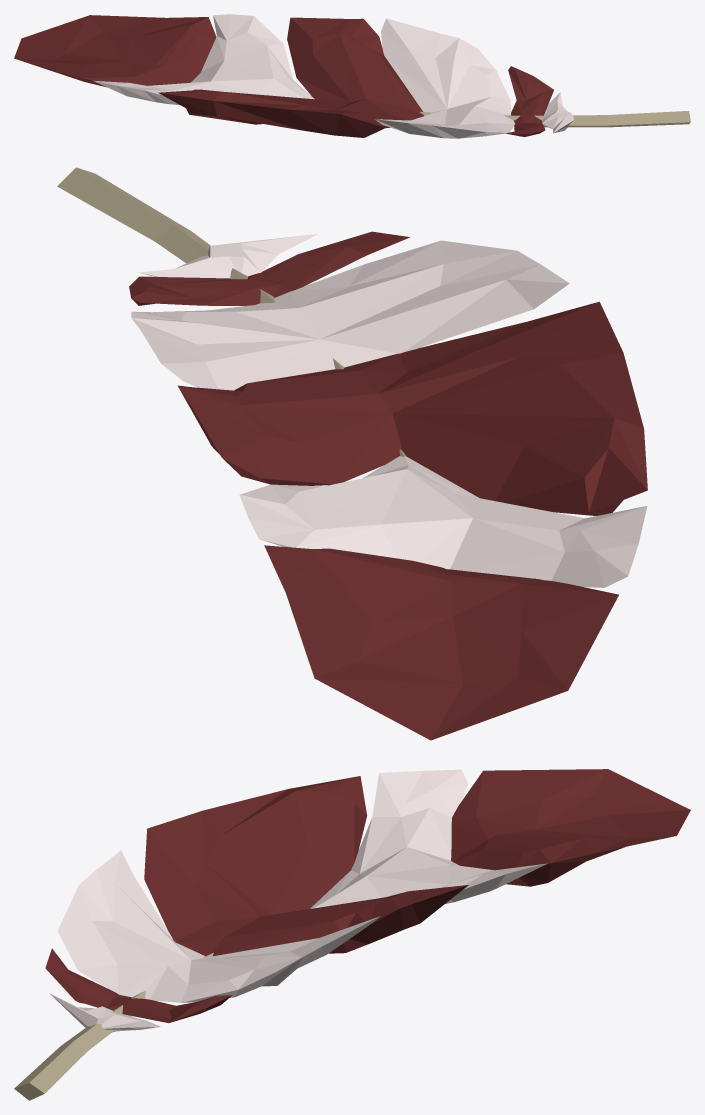
File: Feather_02.FBX
The picture shows the model from 3 angles, top to bottom: view 1: azimuth 30°, elevation 25°; view 2: azimuth 150°, elevation 25°; view 3: azimuth 270°, elevation 25°; orthographic projection. The views are drawn at different scales.
Visible parts, largest first — view 1: Feather_02; view 2: Feather_02; view 3: Feather_02.
Part boxes in pixels (box(x1,y1,x2,y2)): Feather_02: box(14, 14, 690, 138); Feather_02: box(57, 167, 647, 740); Feather_02: box(14, 769, 690, 1100).
Bounding box in the file's own units: 2.74 × 0.3285 × 2.56.
